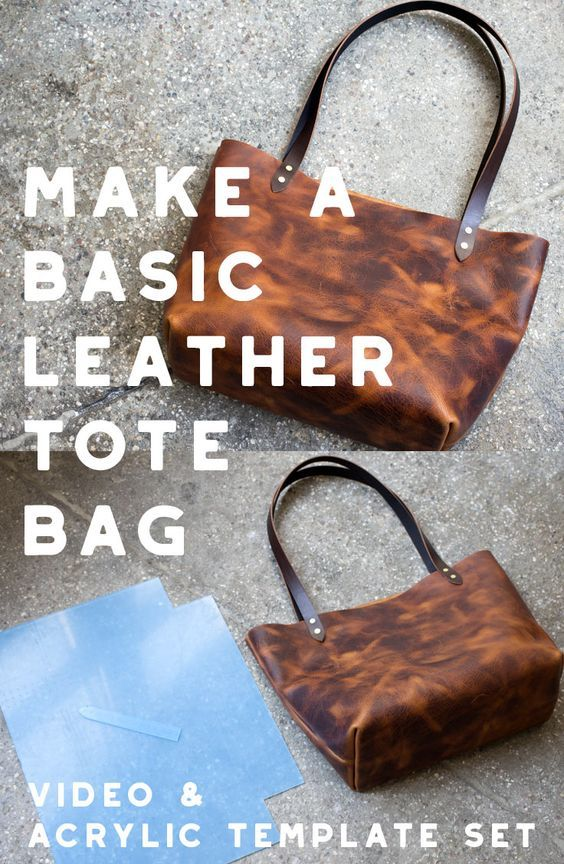cuero: (161, 1, 564, 793)
